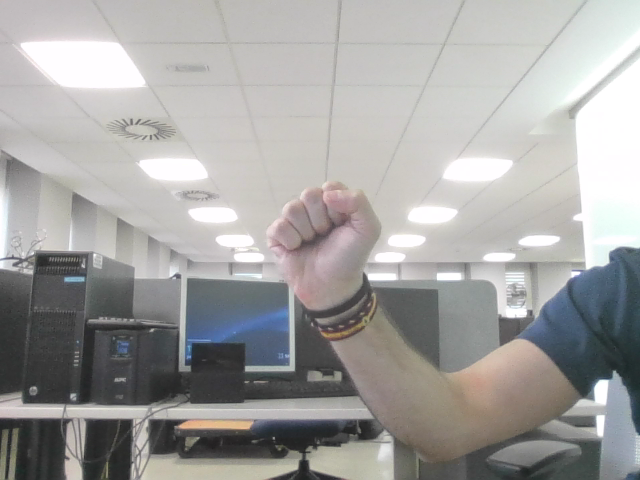Puño: (281, 189, 363, 262)
